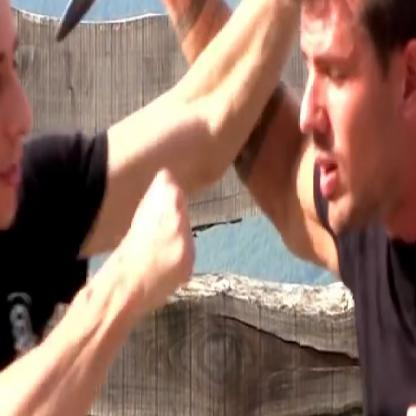knife: (49, 0, 206, 53)
